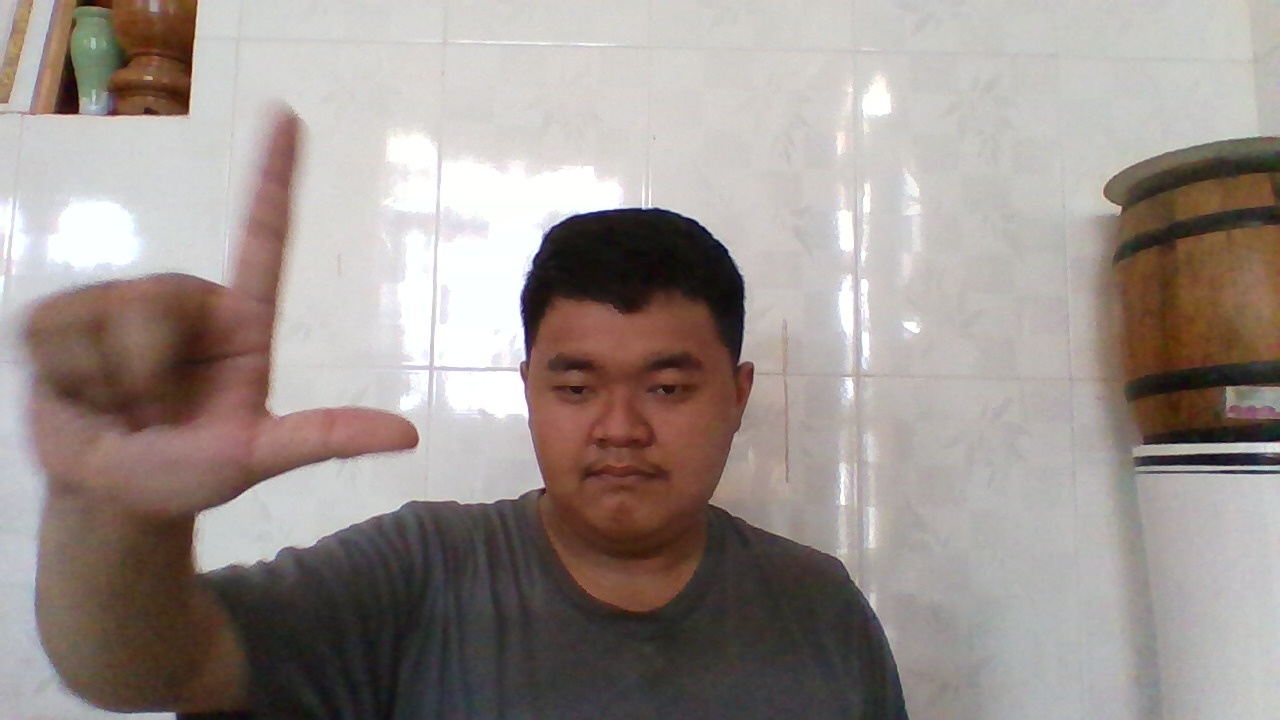L: (42, 109, 411, 518)
